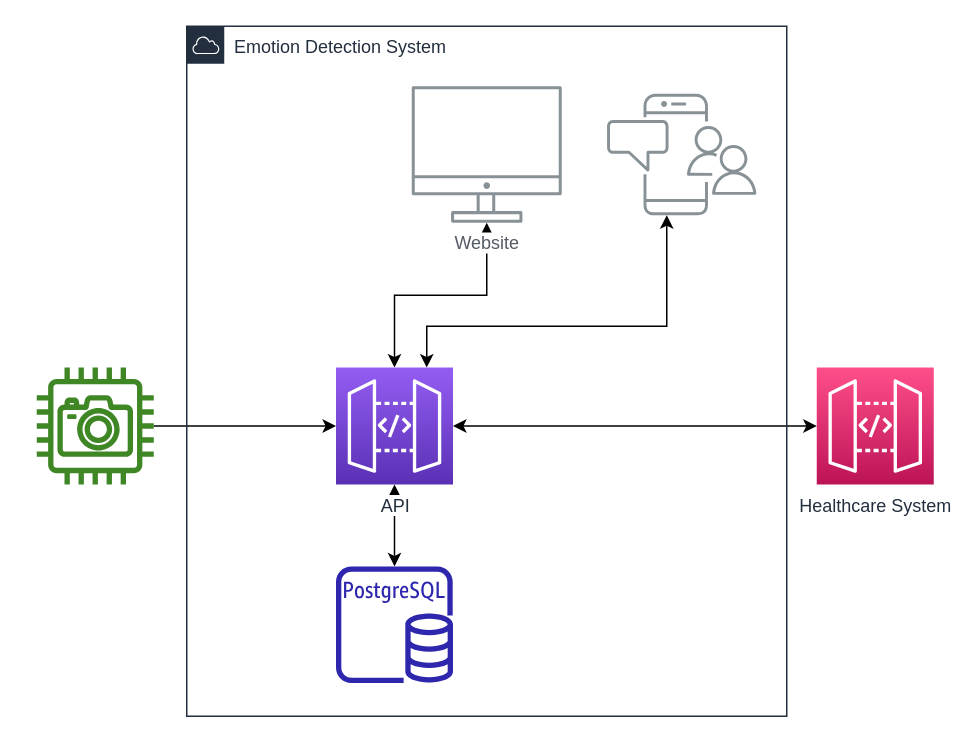
The diagram is 977 pixels wide and 743 high, and some of its shapes have lost their labels. The shapes that lost their labels are listed below. From the top down, each one's box as (x1, y1, x2, y2) in pixels, then its label:
(606, 93, 756, 214): Mobile APP
(36, 367, 153, 484): IoT with Webcam
